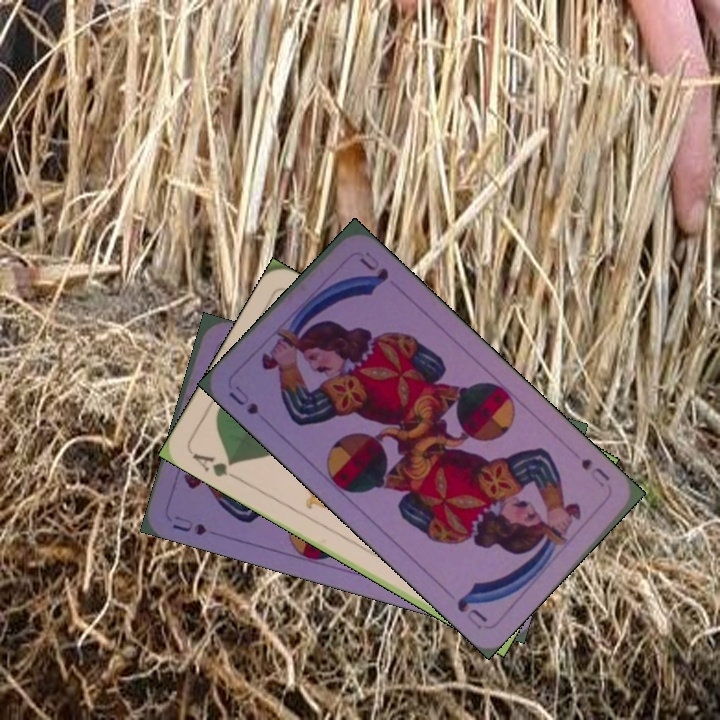GA: (188, 448, 242, 483)
SU: (225, 381, 261, 417), (577, 454, 613, 490), (168, 511, 209, 538)
